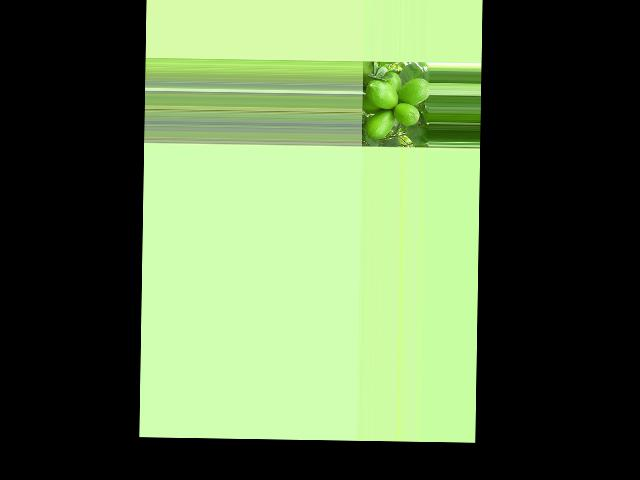lemon: (366, 107, 395, 140)
